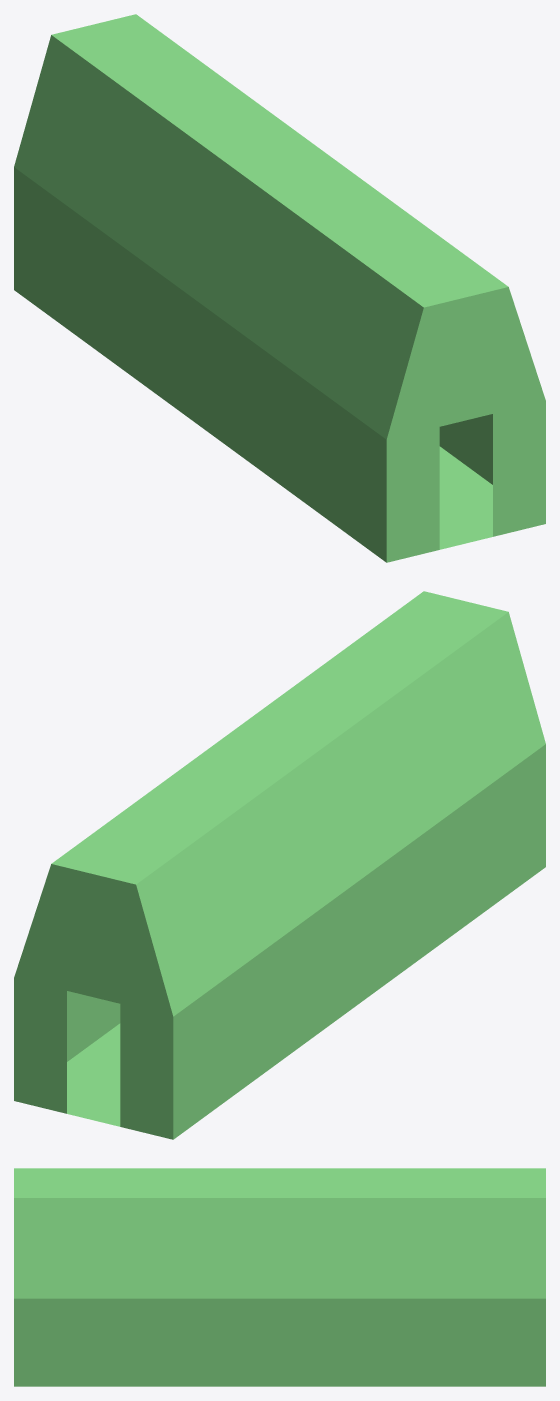
File: Room2.fbx
3 renders of one model, top to bottom at view 1: azimuth 30°, elevation 25°; view 2: azimuth 150°, elevation 25°; view 3: azimuth 270°, elevation 25°, orthographic. The views are drawn at different scales.
Parts seen in each view (by area): view 1: Cube.012; view 2: Cube.012; view 3: Cube.012.
Part boxes in pixels (x1,y1,x2,y2): Cube.012: [14, 14, 545, 562]; Cube.012: [14, 591, 545, 1139]; Cube.012: [14, 1168, 545, 1386].
Bounding box in the file's own units: 2464 × 3637 × 9982.
